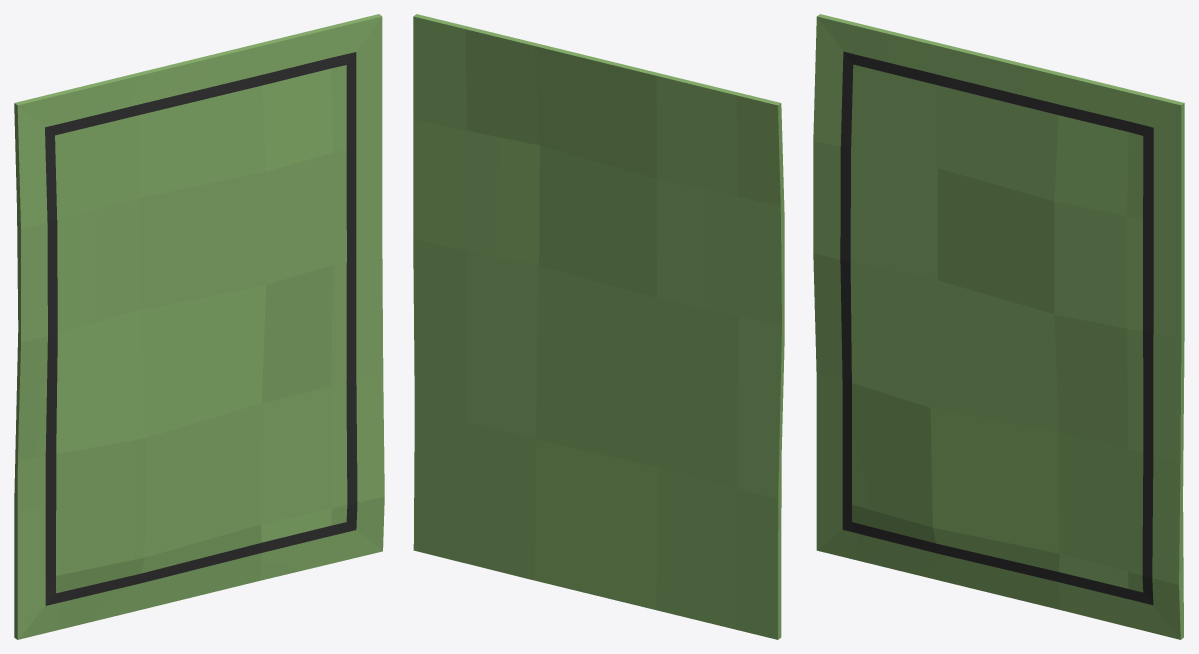
File: Int_WallPaper01_3.fbx
The picture shows the model from 3 angles, left to right: view 1: azimuth 30°, elevation 25°; view 2: azimuth 150°, elevation 25°; view 3: azimuth 330°, elevation 25°; orthographic projection.
Parts seen in each view (by area): view 1: Int_WallPaper01_3; view 2: Int_WallPaper01_3; view 3: Int_WallPaper01_3.
Part boxes in pixels (x1,y1,x2,y2): Int_WallPaper01_3: (14, 14, 384, 639); Int_WallPaper01_3: (413, 14, 784, 639); Int_WallPaper01_3: (813, 14, 1184, 639).
Size of what is drawn, in the model's own units: 46.74 by 2.44 by 65.44.
